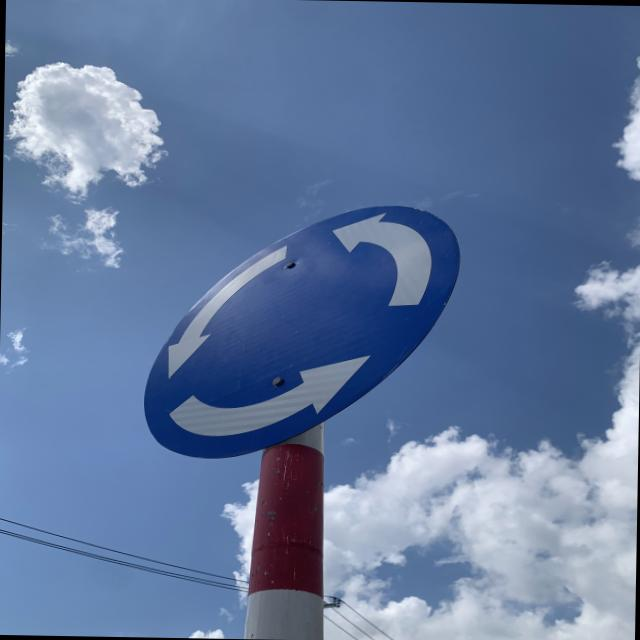Xe_Bus: (140, 196, 471, 467)
